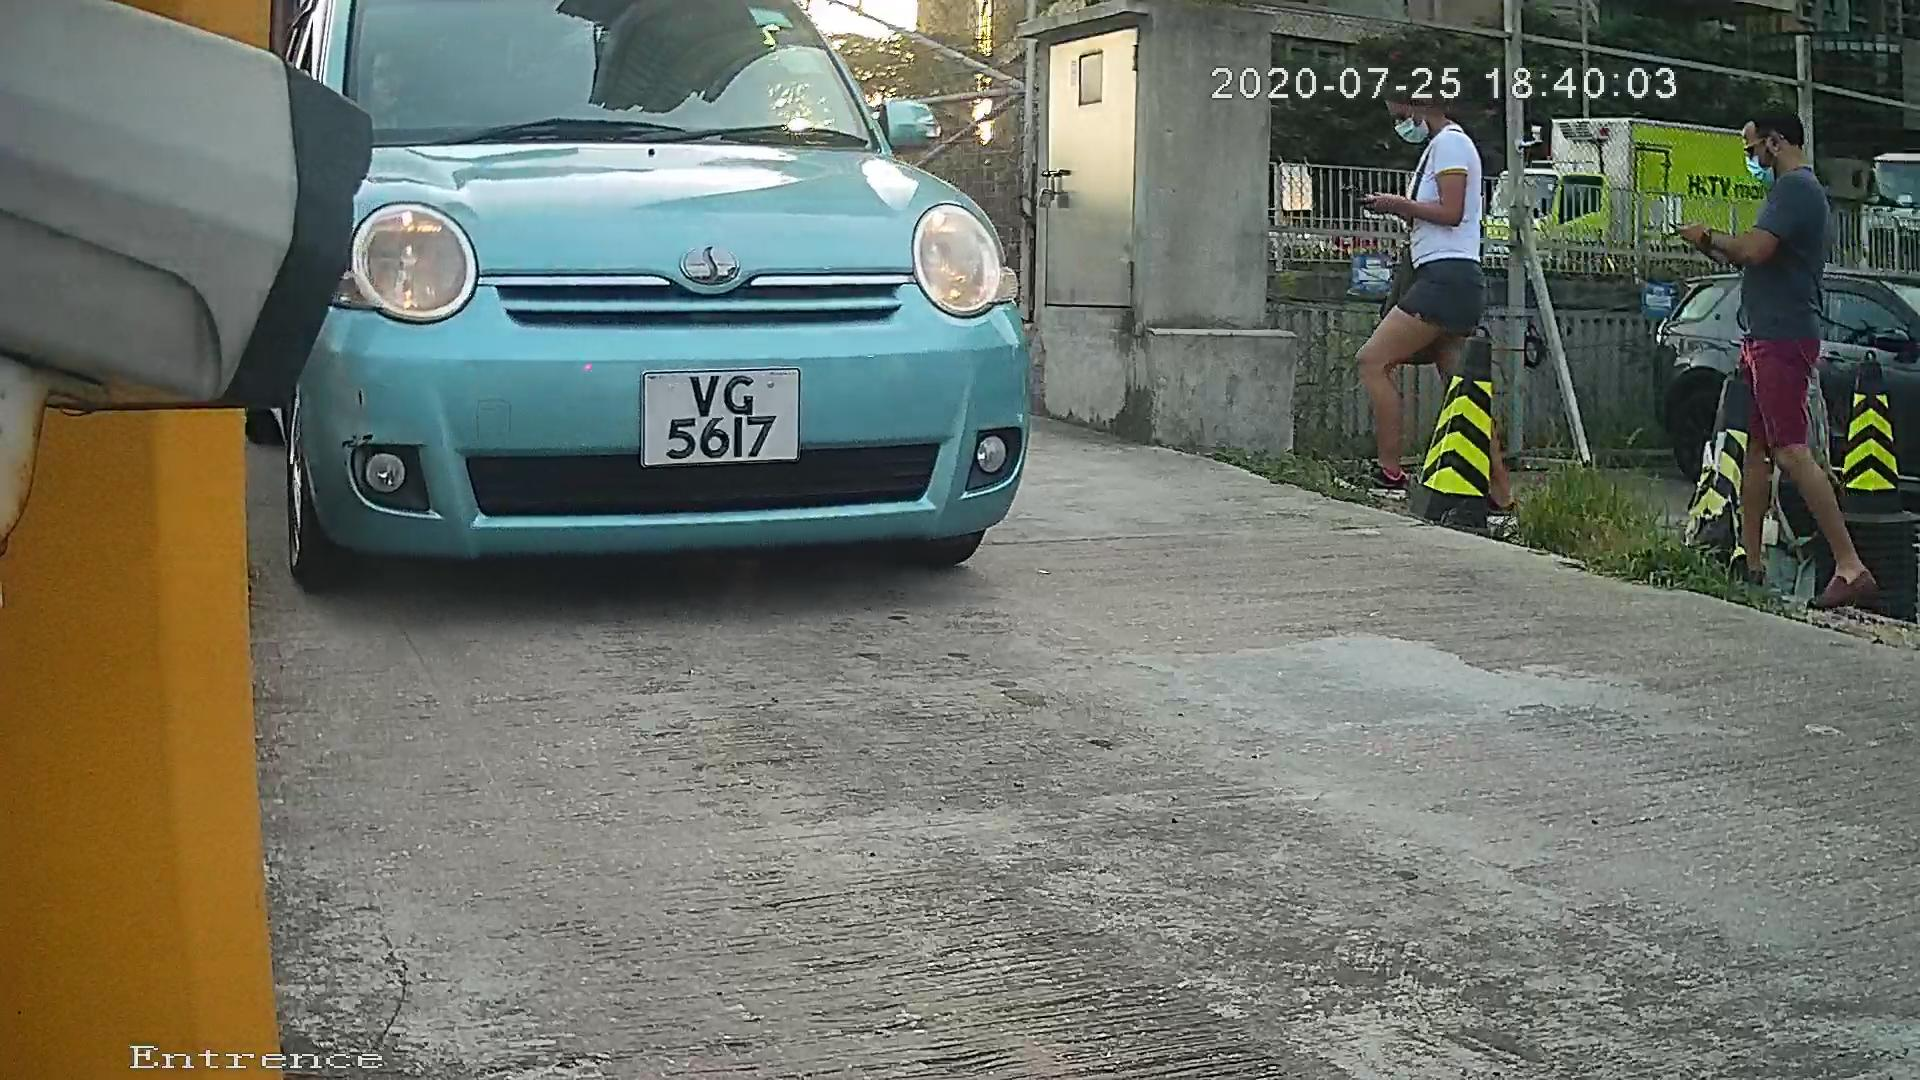Car: (129, 1, 1123, 632)
License Plate: (609, 352, 815, 478)
